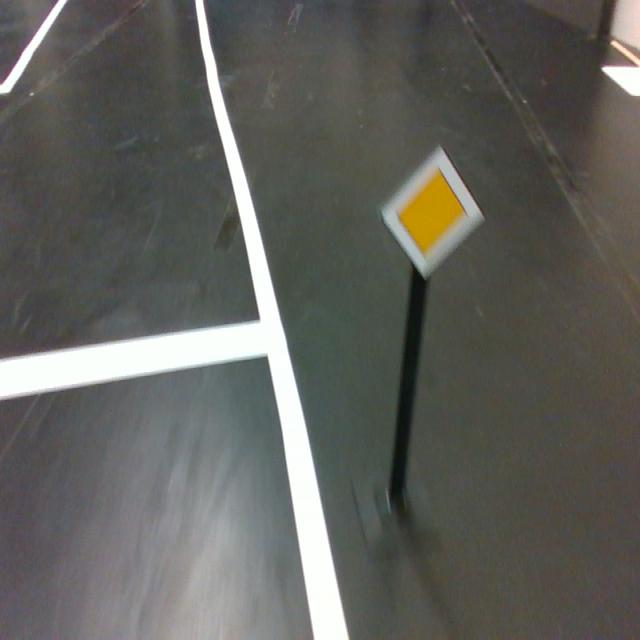priority-sign: (379, 144, 486, 282)
